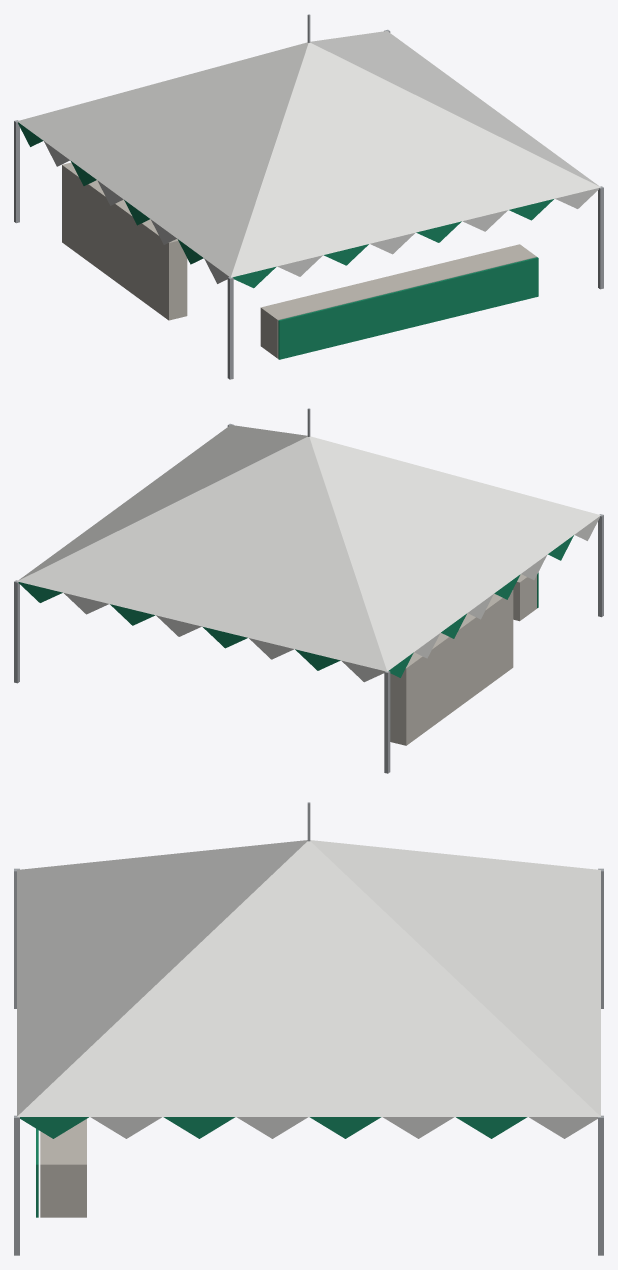
The model's file is tenda_3.glb.
3 renders of one model, top to bottom at view 1: azimuth 30°, elevation 25°; view 2: azimuth 150°, elevation 25°; view 3: azimuth 270°, elevation 25°, orthographic. The views are drawn at different scales.
Visible parts, largest first — view 1: br, bal, cor, aco; view 2: br, bal, cor, aco; view 3: br, bal, cor, aco.
Part boxes in pixels (left/top/right/bottom): br: left=17, top=31, right=600, bottom=283; bal: left=62, top=162, right=536, bottom=358; cor: left=18, top=122, right=553, bottom=359; aco: left=14, top=14, right=603, bottom=379; br: left=17, top=425, right=600, bottom=682; bal: left=390, top=574, right=536, bottom=745; cor: left=18, top=535, right=573, bottom=677; aco: left=14, top=408, right=603, bottom=773; br: left=17, top=840, right=600, bottom=1138; bal: left=40, top=1119, right=86, bottom=1217; cor: left=20, top=1117, right=527, bottom=1217; aco: left=14, top=802, right=603, bottom=1255.
Bounding box in the file's own units: 10.1 × 6.2 × 10.1.
